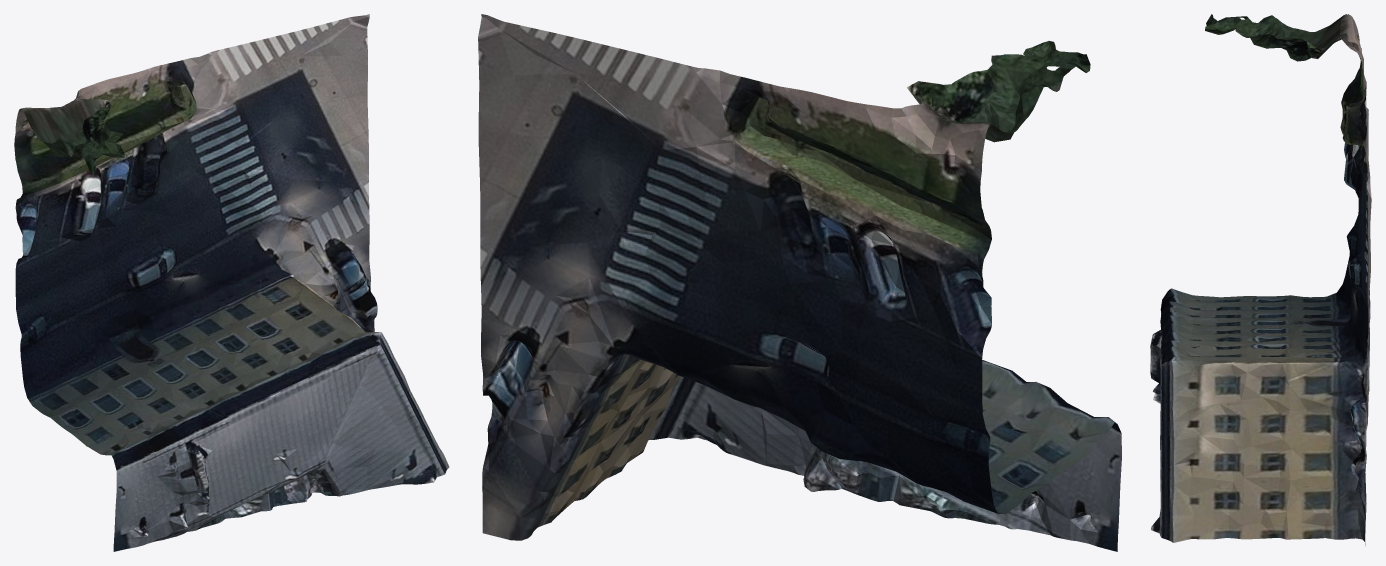
File: Tile_+031_+024_L20_0000200.obj
3 renders of one model, left to right at view 1: azimuth 30°, elevation 25°; view 2: azimuth 150°, elevation 25°; view 3: azimuth 270°, elevation 25°, orthographic. The views are drawn at different scales.
Bounding box in the file's own units: 31.38 × 31.5 × 17.2.
Materials: 1 (1 with a texture image).
